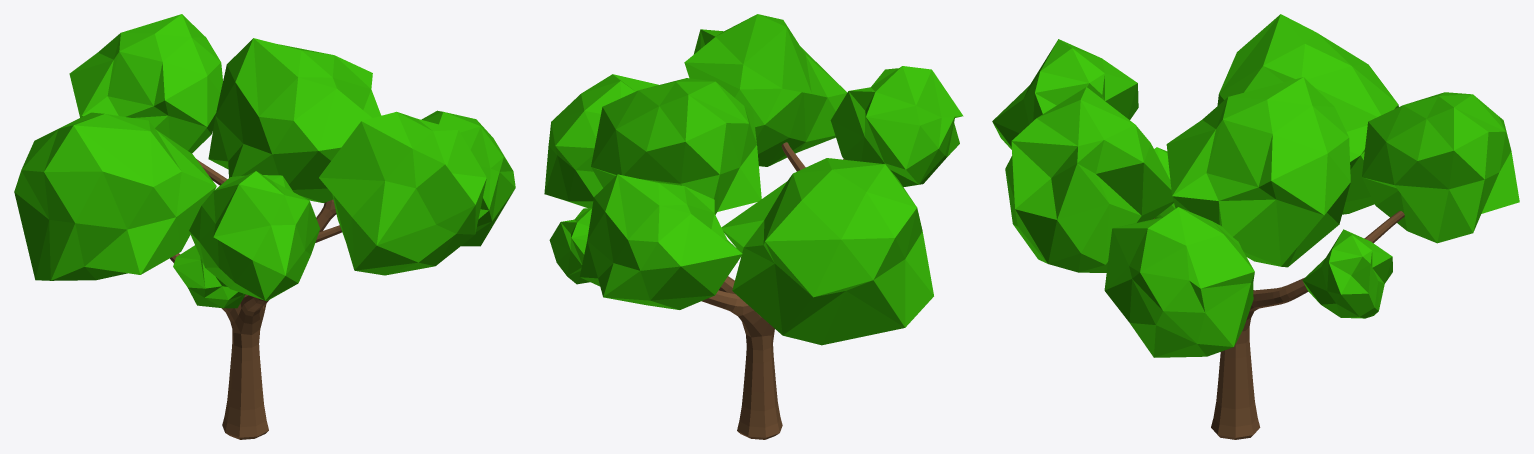
The model's file is Tree3.glb.
The picture shows the model from 3 angles, left to right: view 1: azimuth 30°, elevation 25°; view 2: azimuth 150°, elevation 25°; view 3: azimuth 270°, elevation 25°; orthographic projection. The views are drawn at different scales.
Visible parts, largest first — view 1: Icosphere, Plane; view 2: Icosphere, Plane; view 3: Icosphere, Plane.
Boxes of the visible parts, box(x1,y1,x2,y2) form: Icosphere: box(14, 14, 515, 308); Plane: box(170, 159, 341, 439); Icosphere: box(544, 14, 963, 345); Plane: box(702, 142, 845, 439); Icosphere: box(992, 14, 1519, 357); Plane: box(1153, 211, 1404, 439).
Bounding box in the file's own units: 11.79 × 9.7 × 12.31.
